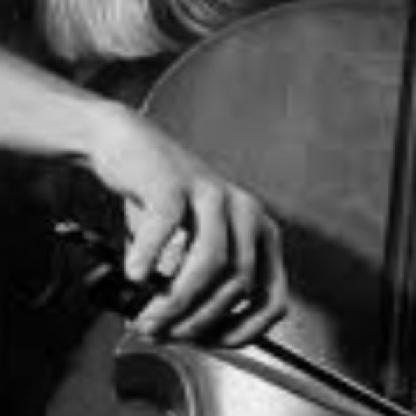good: (102, 151, 298, 357)
